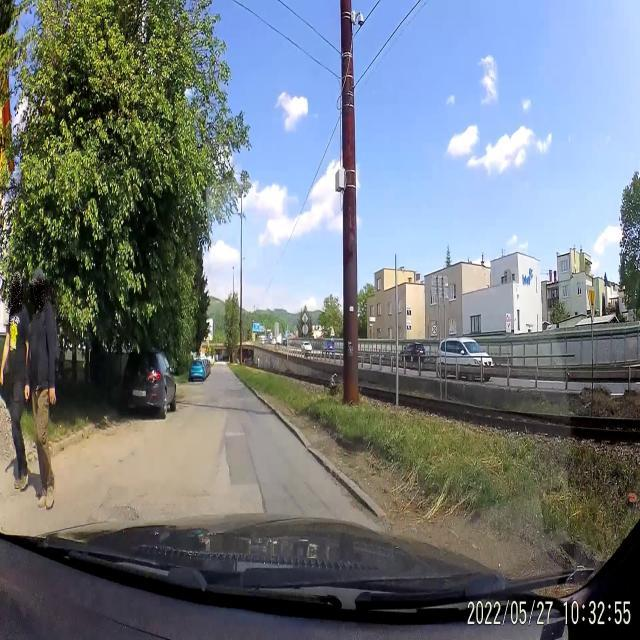Pothole: (106, 496, 144, 521)
